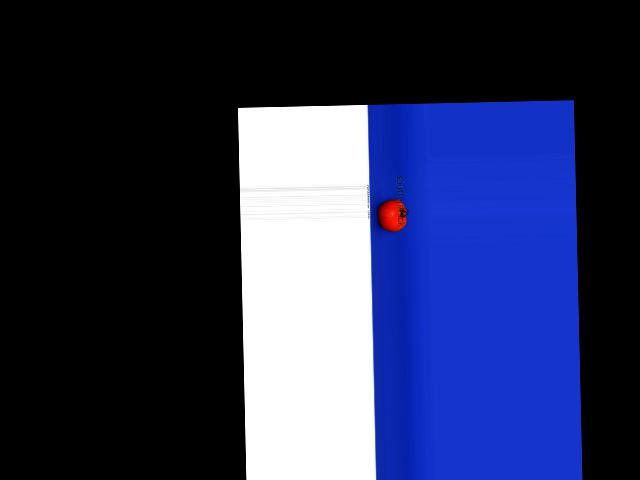tomato: (377, 199, 407, 232)
